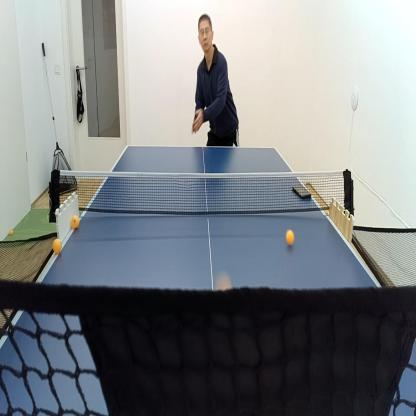Ball: (216, 276, 231, 290), (53, 238, 62, 253), (287, 230, 294, 244), (72, 218, 78, 228), (10, 228, 13, 235)
